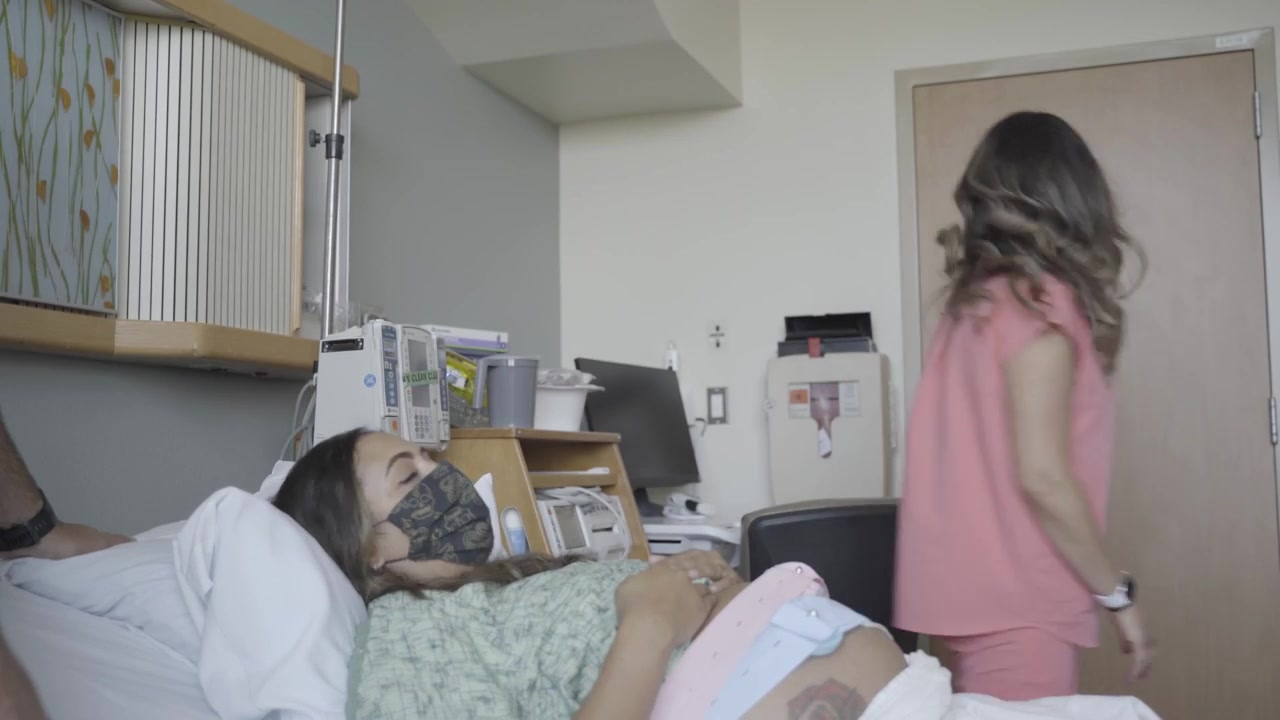bedside_table: (438, 429, 649, 562)
chair: (739, 500, 907, 631)
computer: (572, 358, 701, 488)
dispenser: (761, 351, 891, 496)
hospital_bed: (1, 462, 1168, 720)
infusion_pump: (313, 320, 454, 441)
iv_pole: (307, 1, 351, 336)
patient: (276, 429, 920, 720)
staff: (896, 110, 1153, 702)
